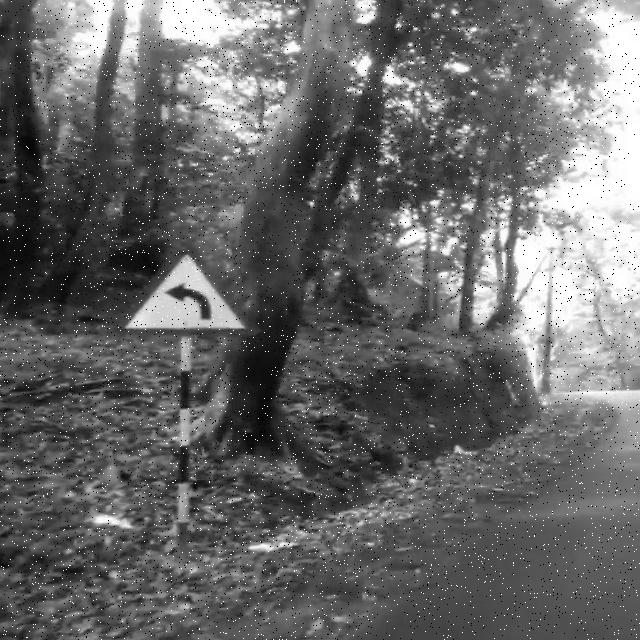left_hand_curve: (115, 237, 261, 340)
